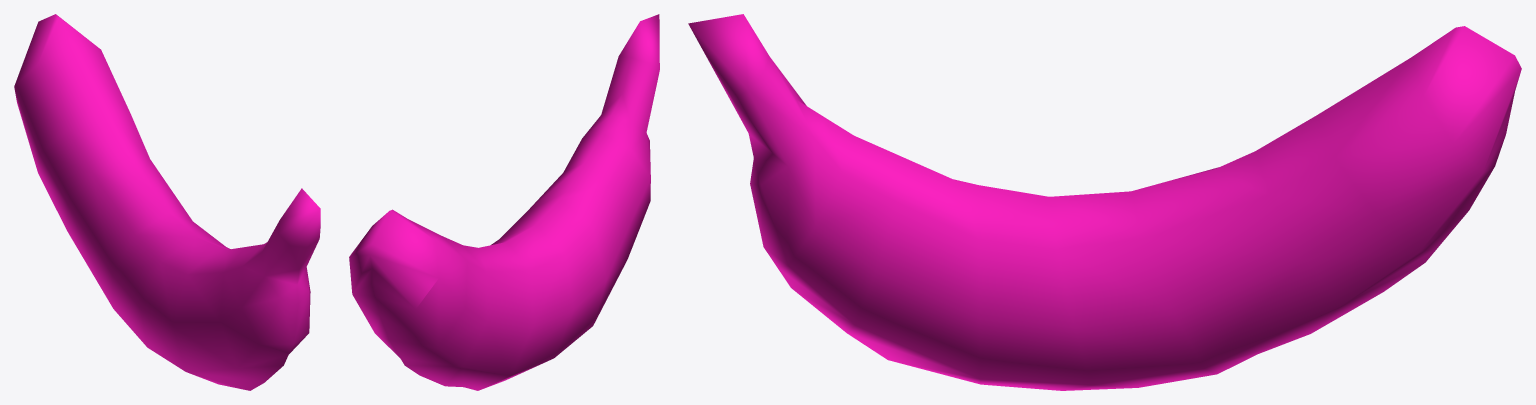
Rendered from banana1_5.dae.
The picture shows the model from 3 angles, left to right: view 1: azimuth 30°, elevation 25°; view 2: azimuth 150°, elevation 25°; view 3: azimuth 270°, elevation 25°; orthographic projection. The views are drawn at different scales.
Visible parts, largest first — view 1: banana1_019; view 2: banana1_019; view 3: banana1_019.
Part boxes in pixels (bbox=[...]): banana1_019: bbox=[14, 14, 320, 390]; banana1_019: bbox=[349, 14, 659, 390]; banana1_019: bbox=[688, 14, 1521, 390].
Size of the model in its own units: 0.0292 by 0.1547 by 0.0775.
